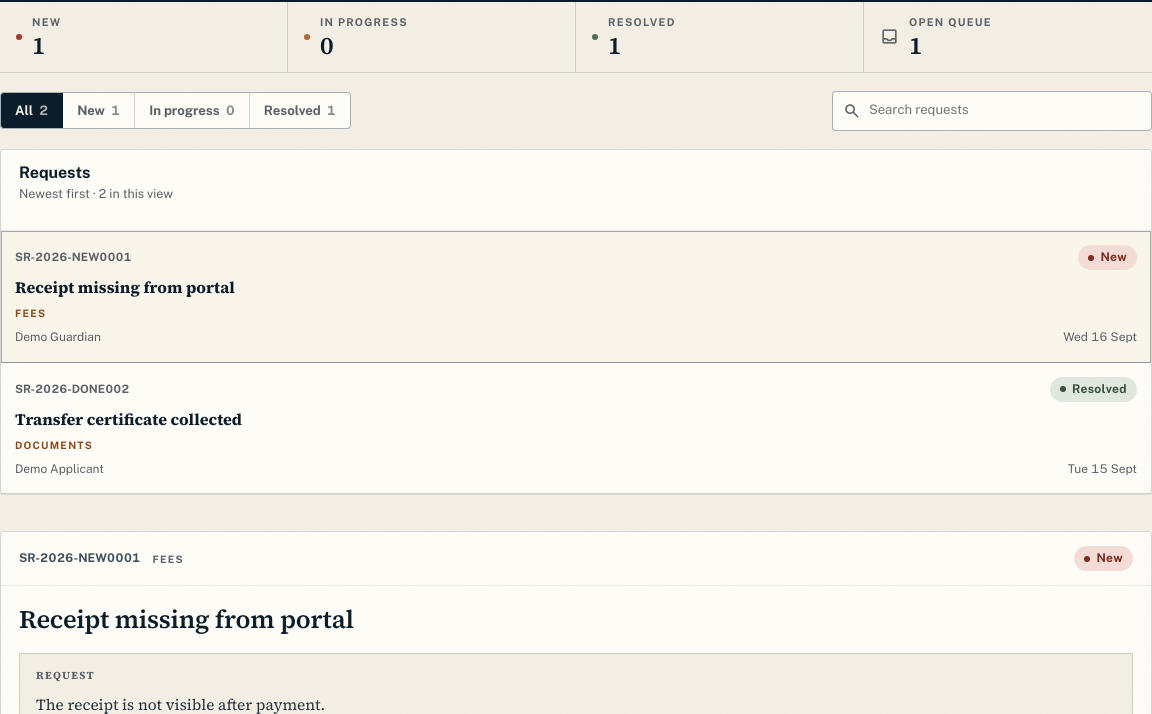
Test: GrievanceInbox › renders a searchable queue and moves the case record with the results
The width and height of the screenshot is (1152, 714).
expect the heading "Requests" is shown: met, box top-left (19, 163), bottom-right (90, 182)
expect the heading "Receipt missing from portal" is shown: met, box top-left (19, 602), bottom-right (354, 636)
In the search field named "Search support requests": [1005, 111] box top-left (869, 92), bottom-right (1141, 130), type "transfer"
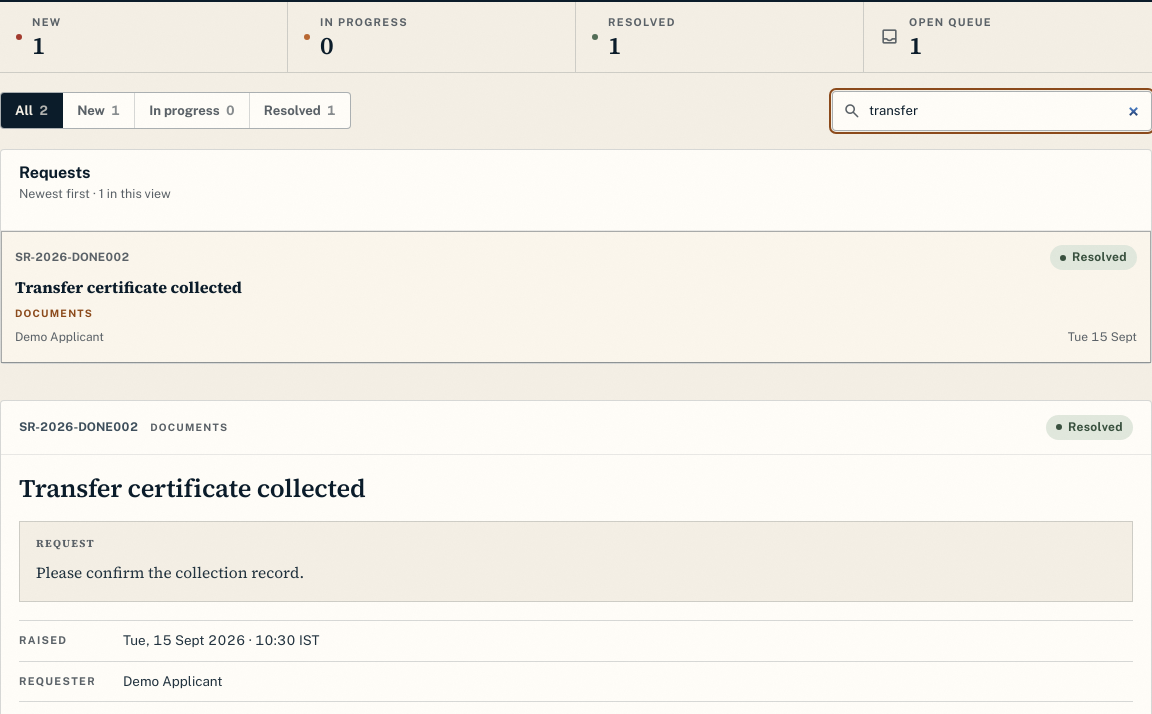
expect the heading "Transfer certificate collected" is shown: met, box top-left (19, 471), bottom-right (366, 505)
expect the button "Receipt missing from portal" is gone: met
Clear the search field named "Search support requests": [1005, 111] box top-left (869, 92), bottom-right (1141, 130)
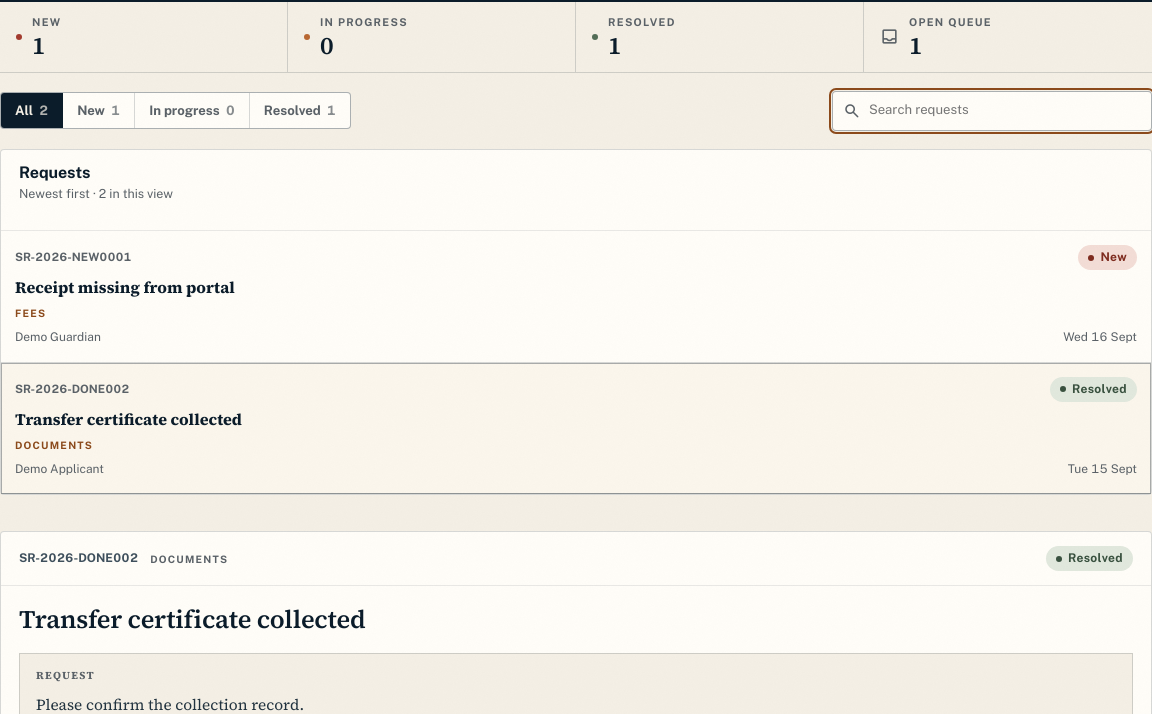
Click the button named "New 1": [99, 111] box top-left (63, 93), bottom-right (135, 128)
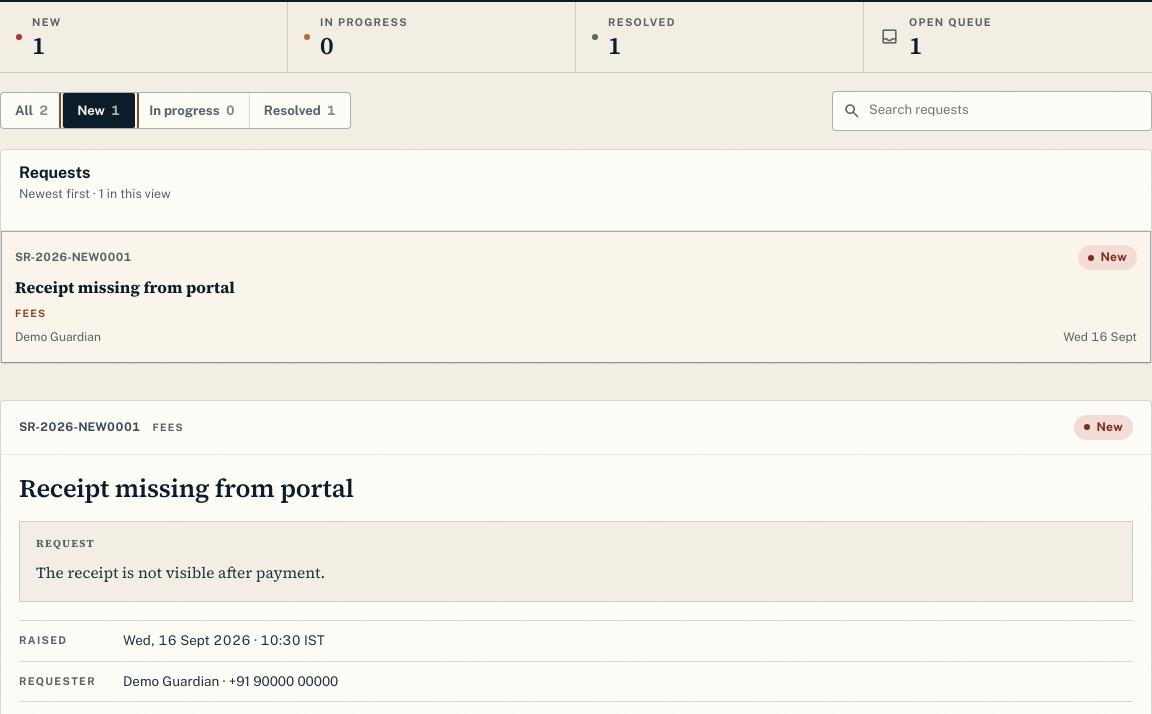
expect the text "Receipt missing from portal" is shown 2 times: met, box top-left (15, 276), bottom-right (235, 298); top-left (19, 471), bottom-right (354, 505)
expect the button "Transfer certificate collected" is gone: met
